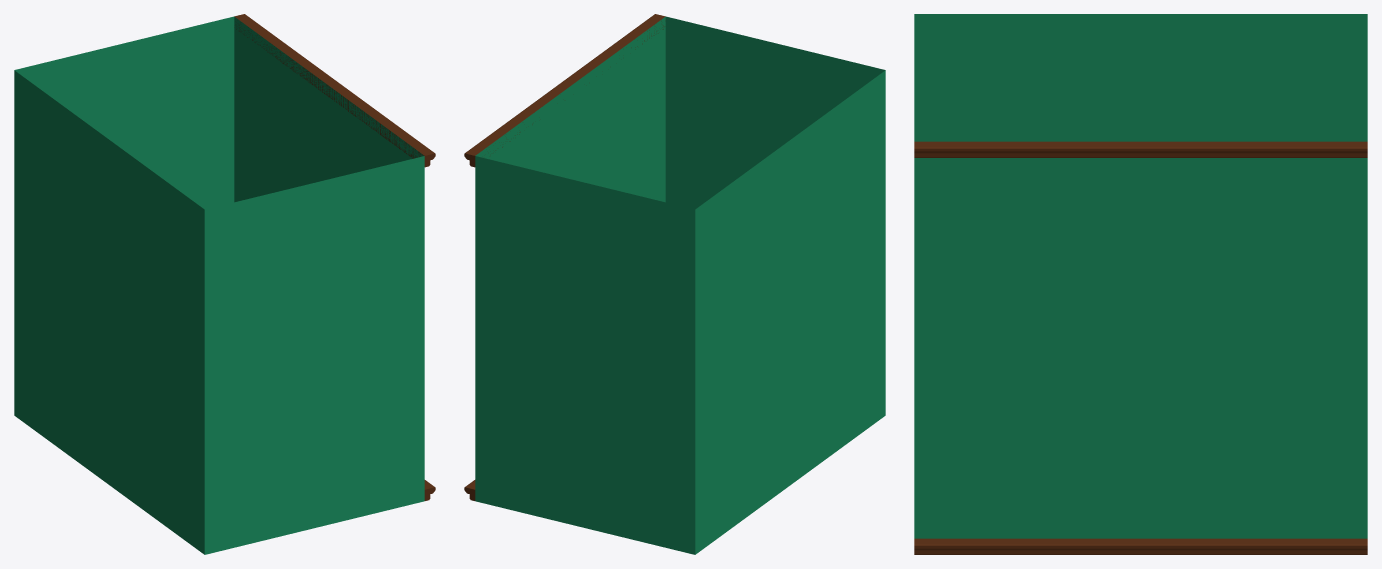
Rendered from Stucco top 6x4.fbx.
The picture shows the model from 3 angles, left to right: view 1: azimuth 30°, elevation 25°; view 2: azimuth 150°, elevation 25°; view 3: azimuth 270°, elevation 25°; orthographic projection. The views are drawn at different scales.
Parts seen in each view (by area): view 1: Stucco top 6; view 2: Stucco top 6; view 3: Stucco top 6.
Boxes of the visible parts, left/top/right/bottom form: Stucco top 6: left=14, top=14, right=435, bottom=554; Stucco top 6: left=464, top=14, right=885, bottom=554; Stucco top 6: left=914, top=14, right=1367, bottom=554.
Bounding box in the file's own units: 420 × 600 × 600.
